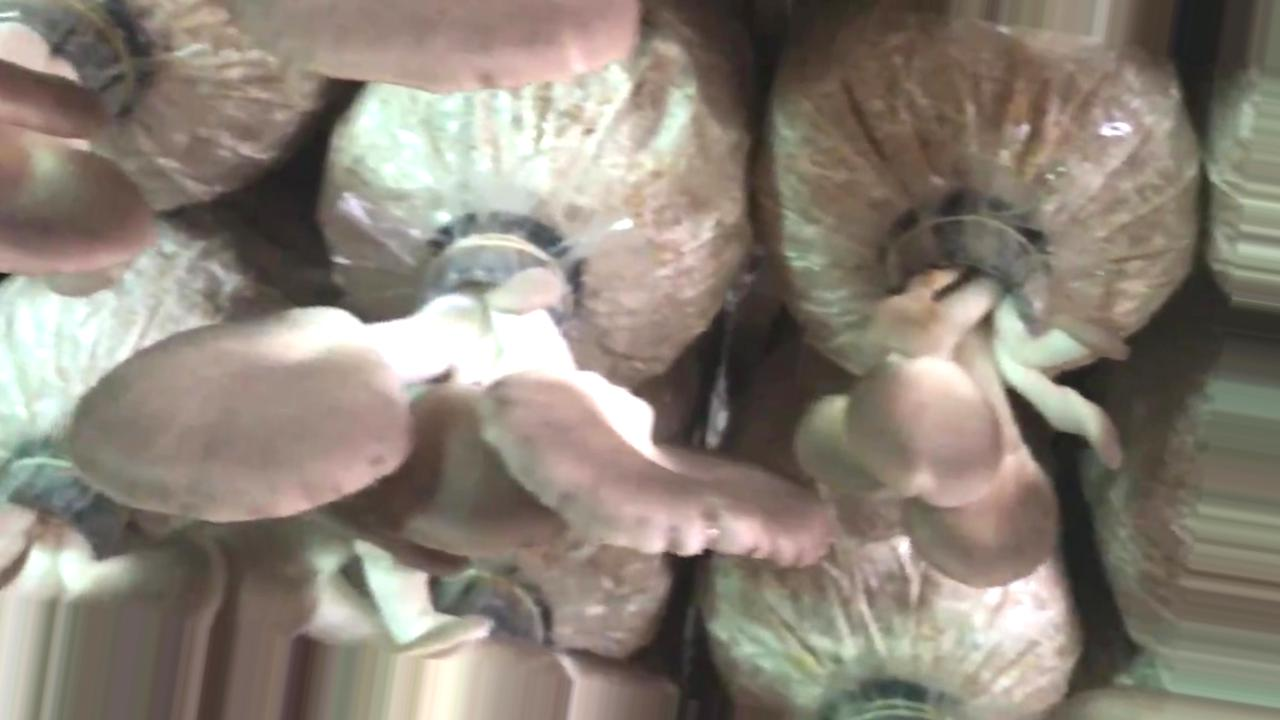nam: (61, 196, 842, 581), (850, 209, 1134, 593), (3, 3, 181, 295), (233, 1, 646, 98)
